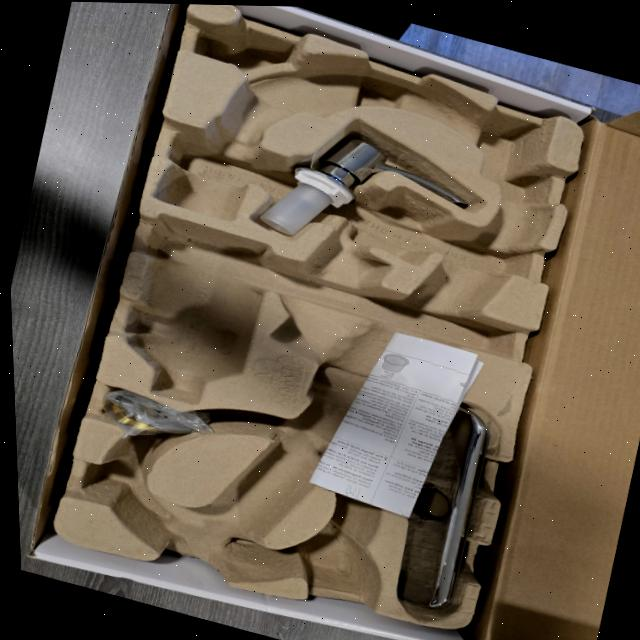1m: (154, 54, 549, 578)
2: (257, 132, 467, 235)
3m: (120, 211, 272, 404)
4o: (398, 404, 488, 607)
5m: (305, 530, 372, 584)
6: (97, 387, 215, 435)
7m: (75, 449, 171, 525)
8: (307, 331, 483, 518)
